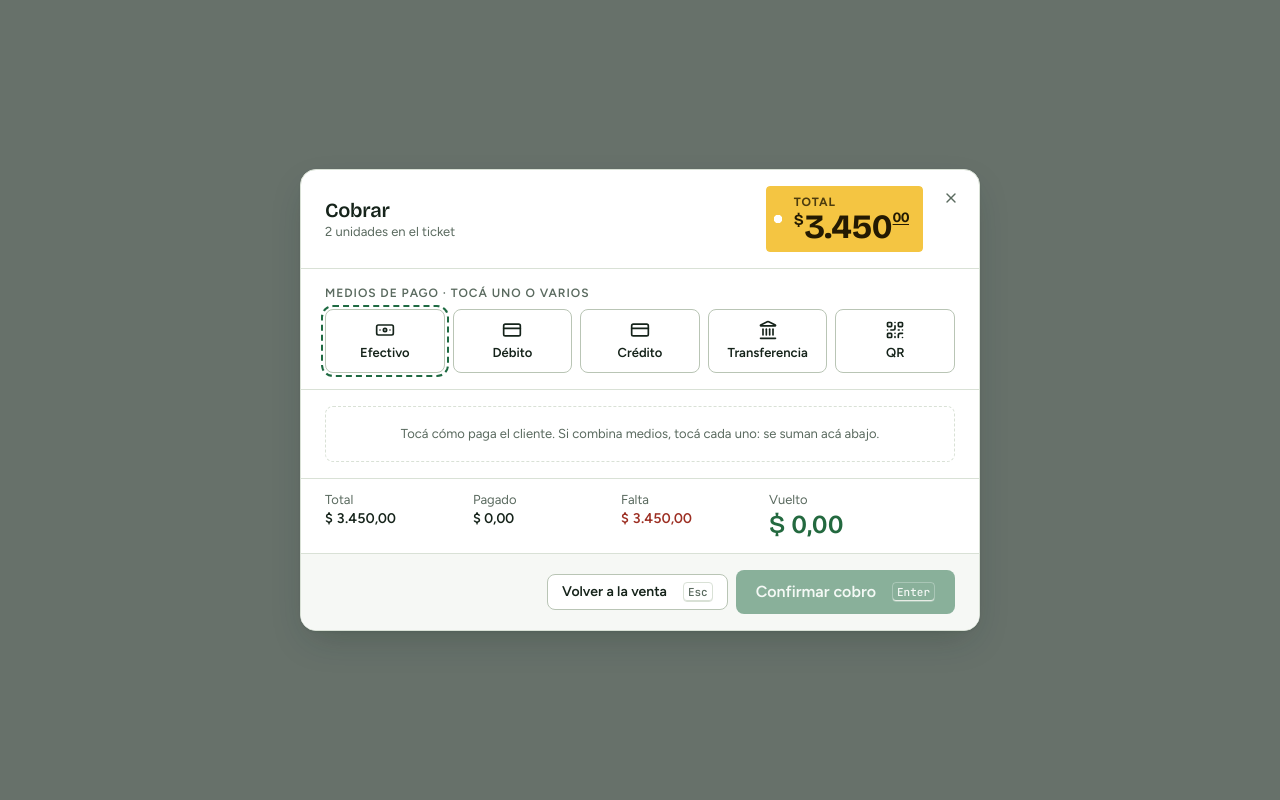
PaymentSheet › el resumen y el botón de cobrar quedan fuera de la lista que se desplaza
What coordinates should you click on to do the following:
click the button "Efectivo"
I would click on:
 (385, 341)
Its box is left=325, top=309, right=445, bottom=373.
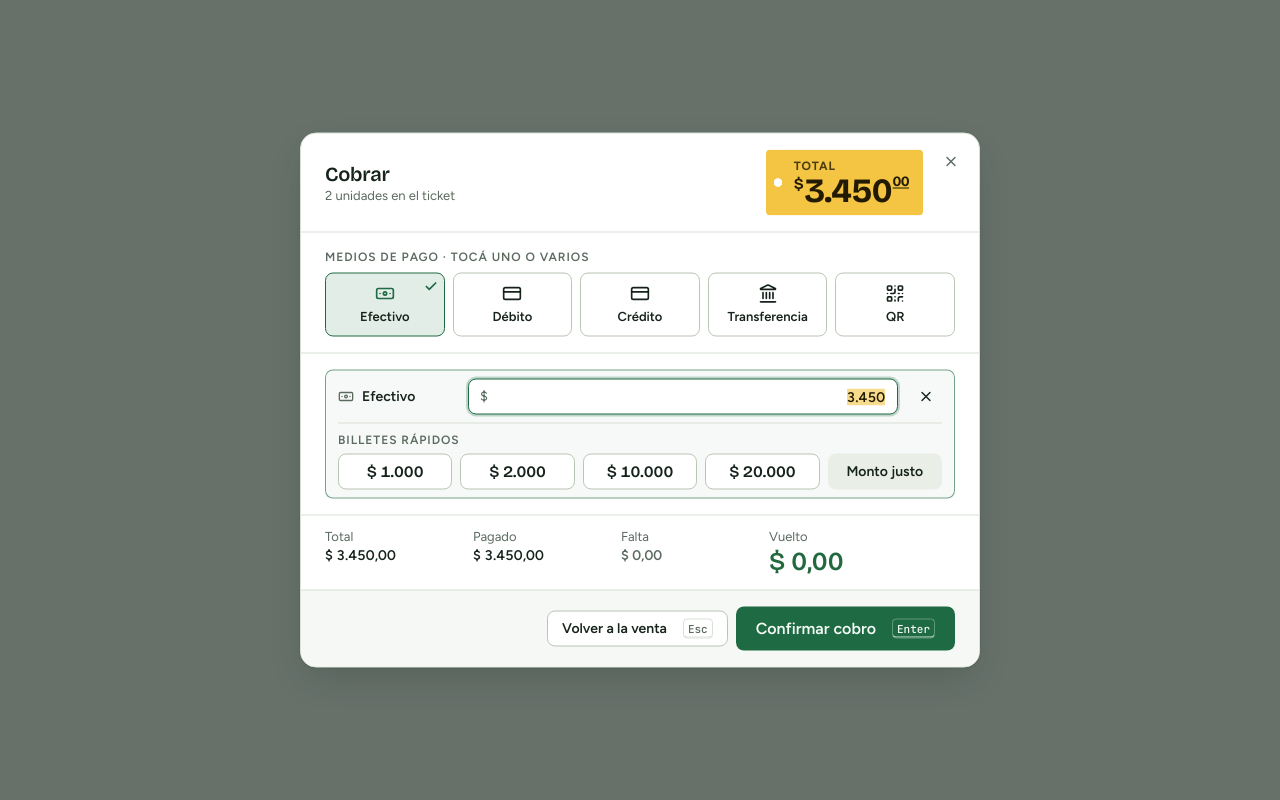
What coordinates should you click on to do the following:
click the button "Débito"
I would click on:
 (512, 304)
Its box is left=453, top=272, right=572, bottom=336.
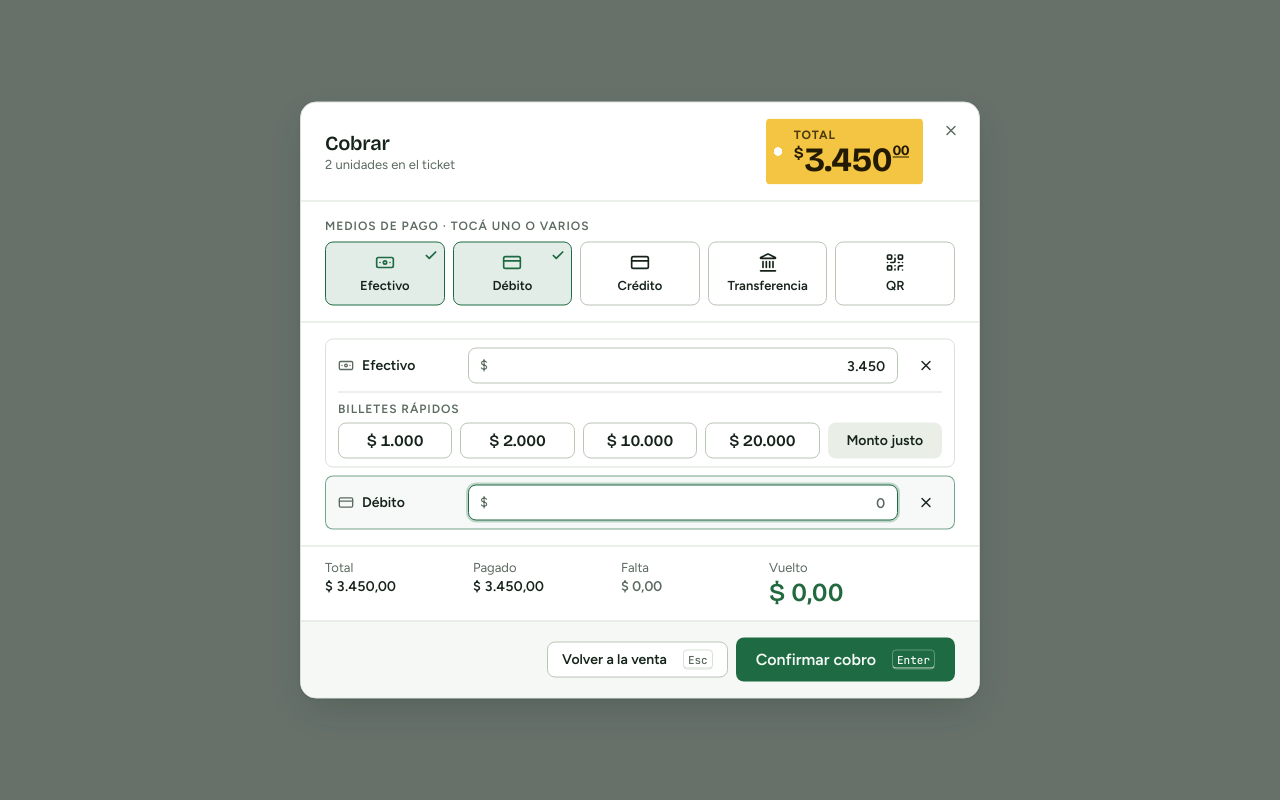
What coordinates should you click on to do the following:
click the button "Crédito"
I would click on:
 (640, 274)
Its box is left=580, top=242, right=700, bottom=306.
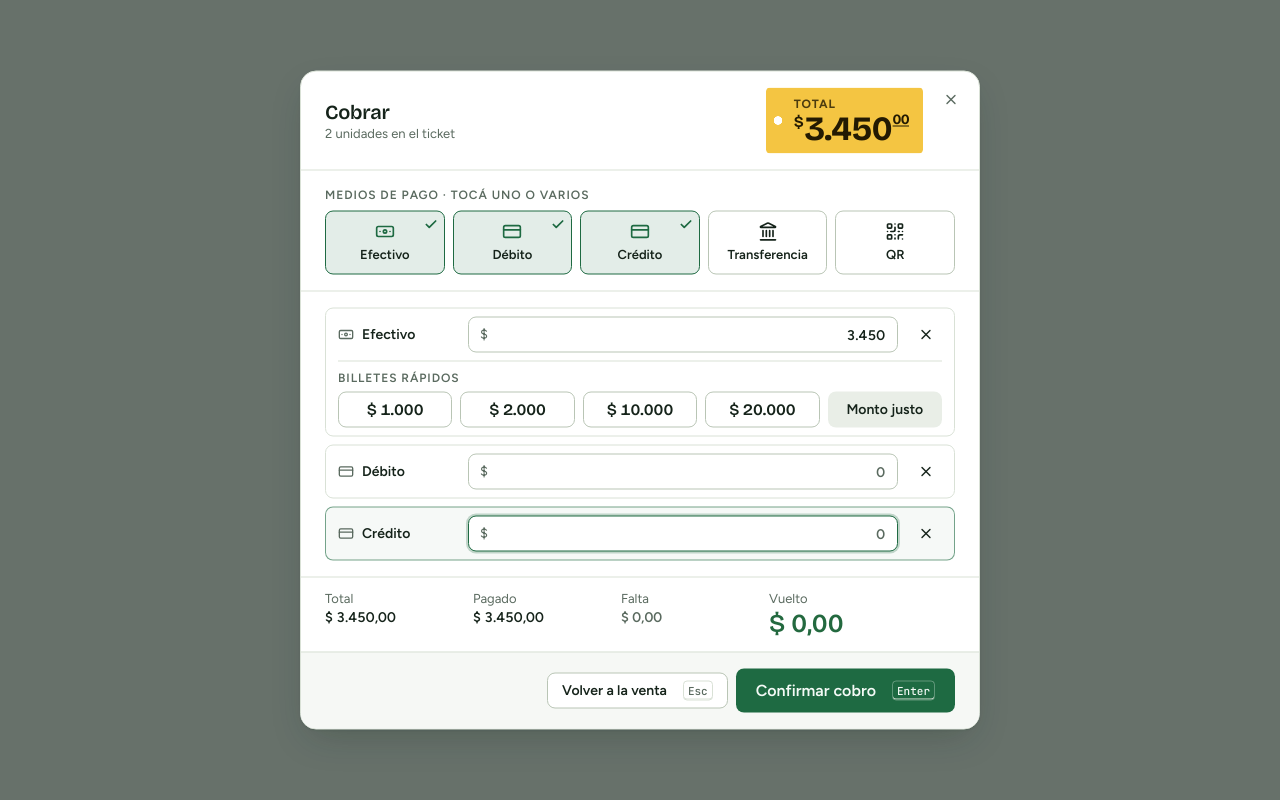
What coordinates should you click on to do the following:
click the button "Transferencia"
I would click on:
 (768, 242)
Its box is left=708, top=210, right=827, bottom=274.
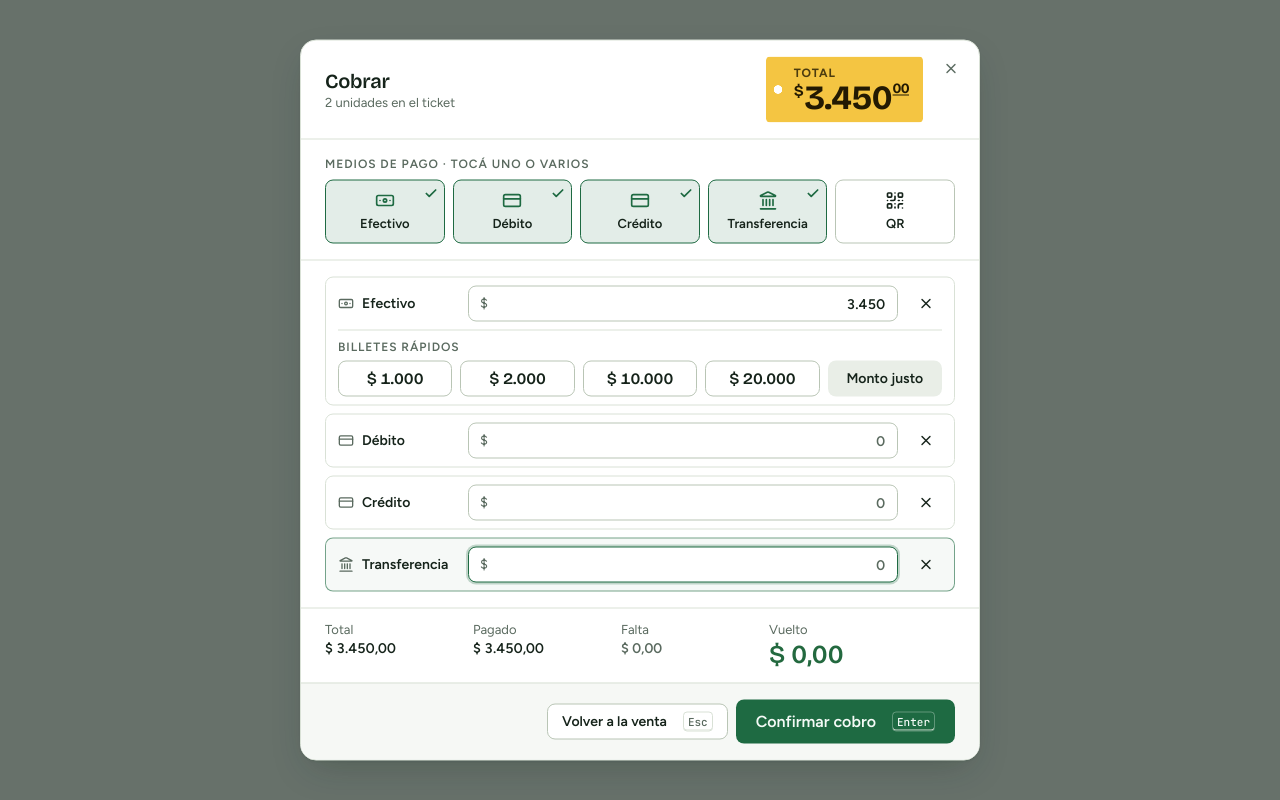
What coordinates should you click on to do the following:
click the button "QR"
I would click on:
 (895, 212)
Its box is left=835, top=180, right=955, bottom=244.
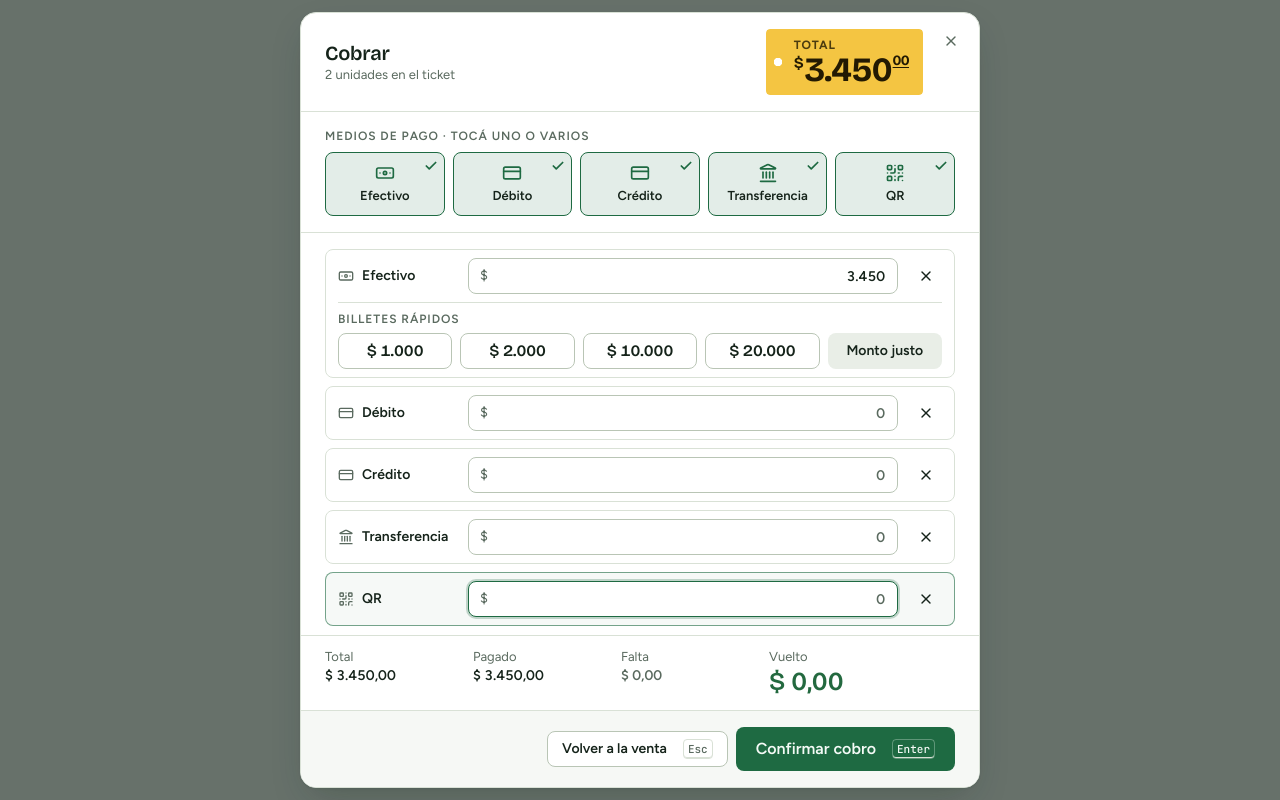
Expected: the text "Total" next to "Pagado" is shown, left=325, top=649, right=353, bottom=664
Expected: the number of list items is 5, left=325, top=249, right=955, bottom=378; left=325, top=386, right=955, bottom=440; left=325, top=448, right=955, bottom=502; left=325, top=510, right=955, bottom=564; left=325, top=572, right=955, bottom=626
